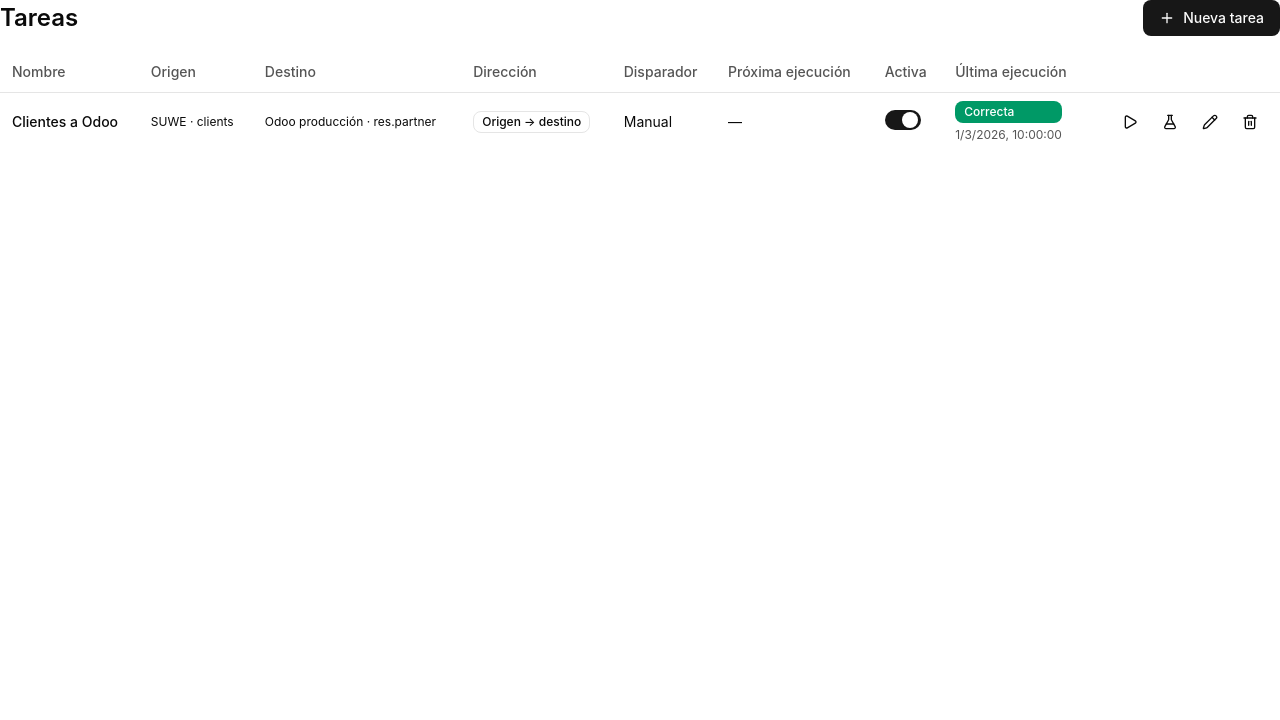
JobsPage › runs a job now after confirmation and links to the run
Click the button named "Ejecutar Clientes a Odoo ahora" at (1130, 122), box [1112,104,1148,140]
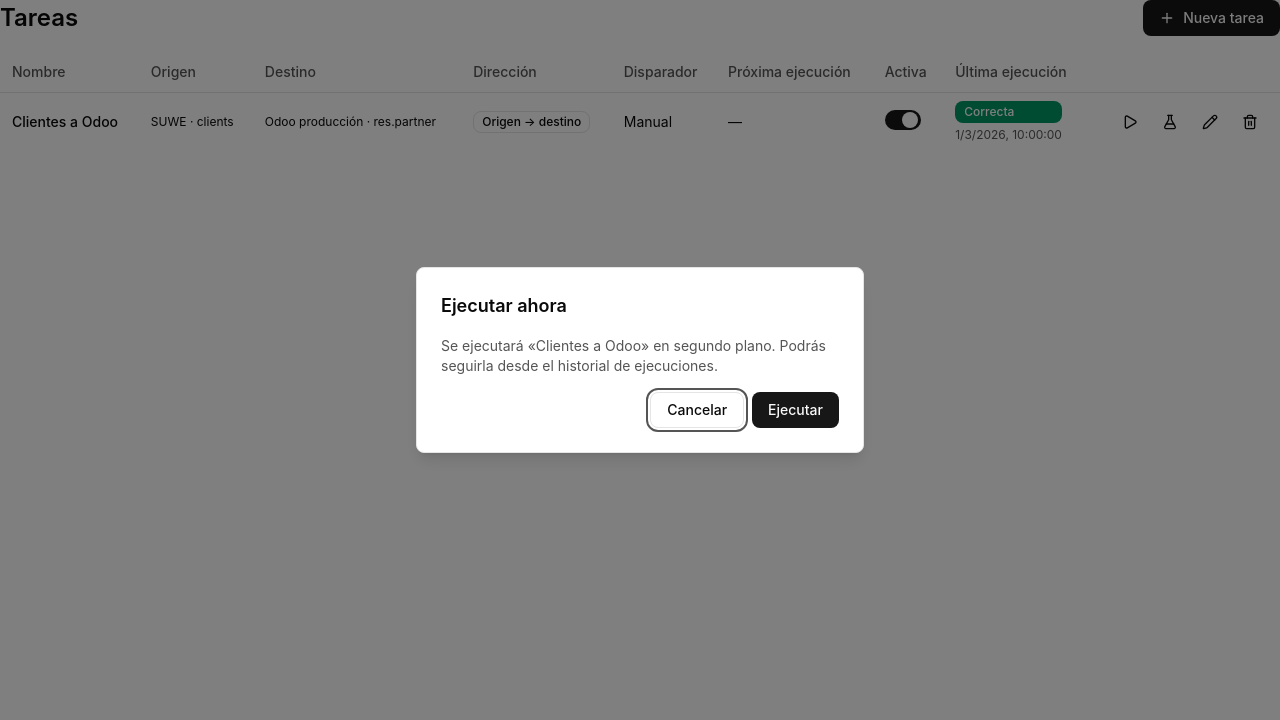
Click the button "Ejecutar" at (796, 410), box [752,392,839,428]
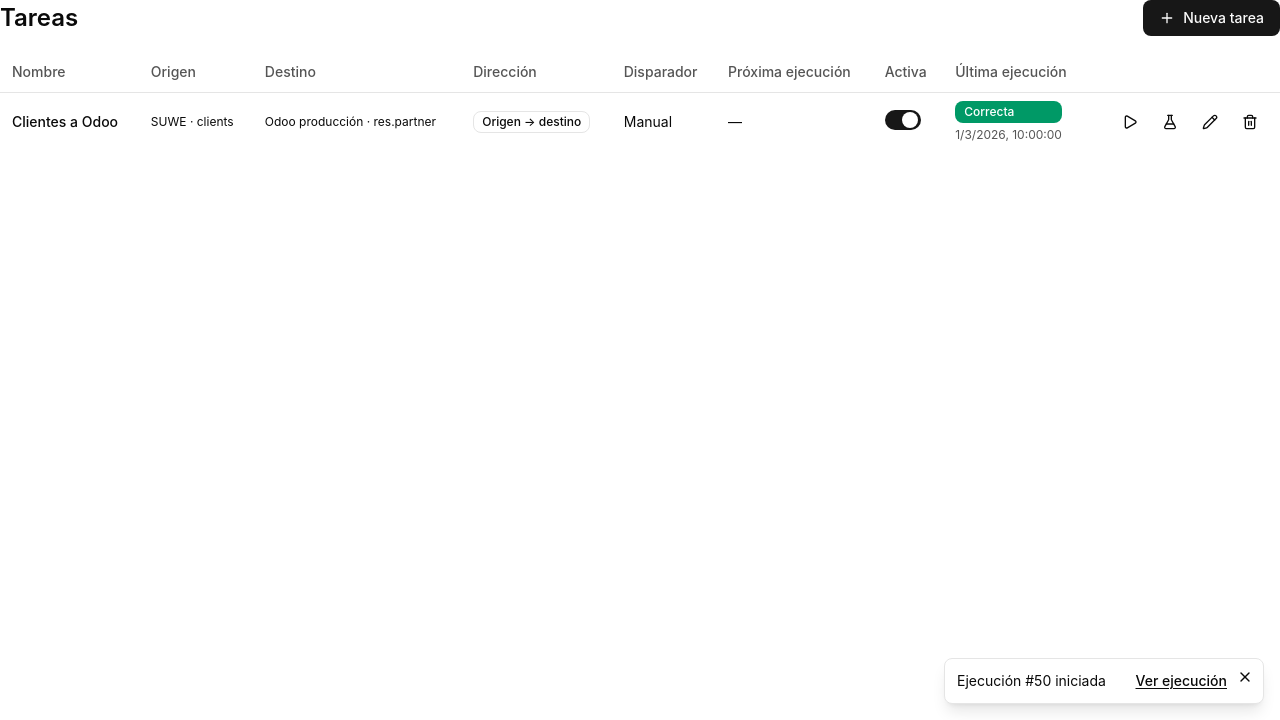
Result: the text "Ejecución #50 iniciada" is shown at [957,671,1124,691]
Result: the dialog is gone
